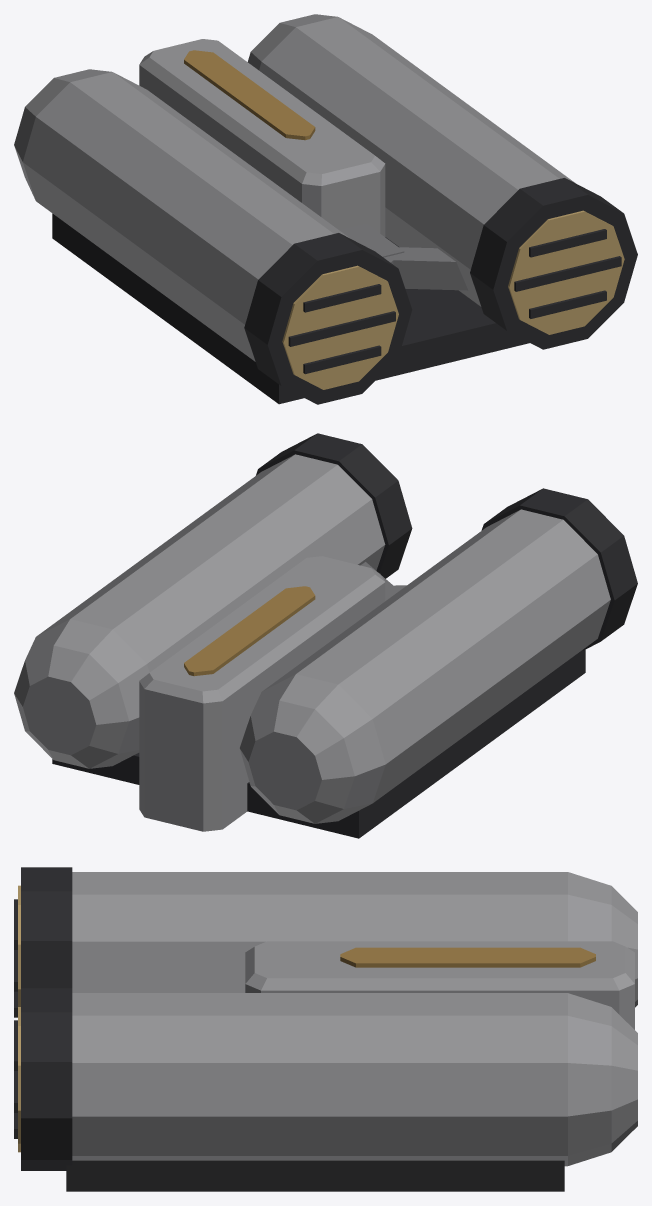
The model's file is ship_engine_b8.obj.
The picture shows the model from 3 angles, top to bottom: view 1: azimuth 30°, elevation 25°; view 2: azimuth 150°, elevation 25°; view 3: azimuth 270°, elevation 25°; orthographic projection. The views are drawn at different scales.
Parts seen in each view (by area): view 1: ship_engine_b8_1, ship_engine_b8_7, ship_engine_b8_0, ship_engine_b8_14, ship_engine_b8_8, ship_engine_b8_2, ship_engine_b8_9, ship_engine_b8_3, ship_engine_b8_13, ship_engine_b8_15, ship_engine_b8_18, ship_engine_b8_11 (+6 smaller); view 2: ship_engine_b8_1, ship_engine_b8_7, ship_engine_b8_13, ship_engine_b8_14, ship_engine_b8_0, ship_engine_b8_2, ship_engine_b8_8, ship_engine_b8_15; view 3: ship_engine_b8_7, ship_engine_b8_1, ship_engine_b8_0, ship_engine_b8_14, ship_engine_b8_8, ship_engine_b8_2, ship_engine_b8_15, ship_engine_b8_13.
Boxes of the visible parts, box(x1,y1,x2,y2) form: ship_engine_b8_1: box(14, 69, 349, 361); ship_engine_b8_7: box(248, 14, 575, 306); ship_engine_b8_0: box(52, 213, 529, 404); ship_engine_b8_14: box(139, 39, 385, 185); ship_engine_b8_8: box(470, 178, 637, 349); ship_engine_b8_2: box(244, 233, 412, 404); ship_engine_b8_9: box(508, 210, 624, 334); ship_engine_b8_3: box(282, 265, 398, 389); ship_engine_b8_13: box(139, 65, 385, 236); ship_engine_b8_15: box(184, 50, 315, 140); ship_engine_b8_18: box(384, 247, 468, 290); ship_engine_b8_11: box(514, 256, 621, 291); ship_engine_b8_1: box(239, 509, 610, 823); ship_engine_b8_7: box(14, 454, 385, 768); ship_engine_b8_13: box(139, 582, 385, 831); ship_engine_b8_14: box(139, 556, 384, 703); ship_engine_b8_0: box(52, 649, 585, 838); ship_engine_b8_2: box(481, 488, 637, 650); ship_engine_b8_8: box(256, 433, 412, 578); ship_engine_b8_15: box(184, 586, 315, 676); ship_engine_b8_7: box(72, 993, 637, 1166); ship_engine_b8_1: box(72, 872, 637, 1007); ship_engine_b8_0: box(66, 1160, 564, 1191); ship_engine_b8_14: box(245, 941, 634, 990); ship_engine_b8_8: box(21, 988, 72, 1170); ship_engine_b8_2: box(21, 867, 72, 988); ship_engine_b8_15: box(340, 947, 595, 967); ship_engine_b8_13: box(245, 984, 634, 1029).
Size of the model in its own units: 3.02 by 1.2 by 4.01.
